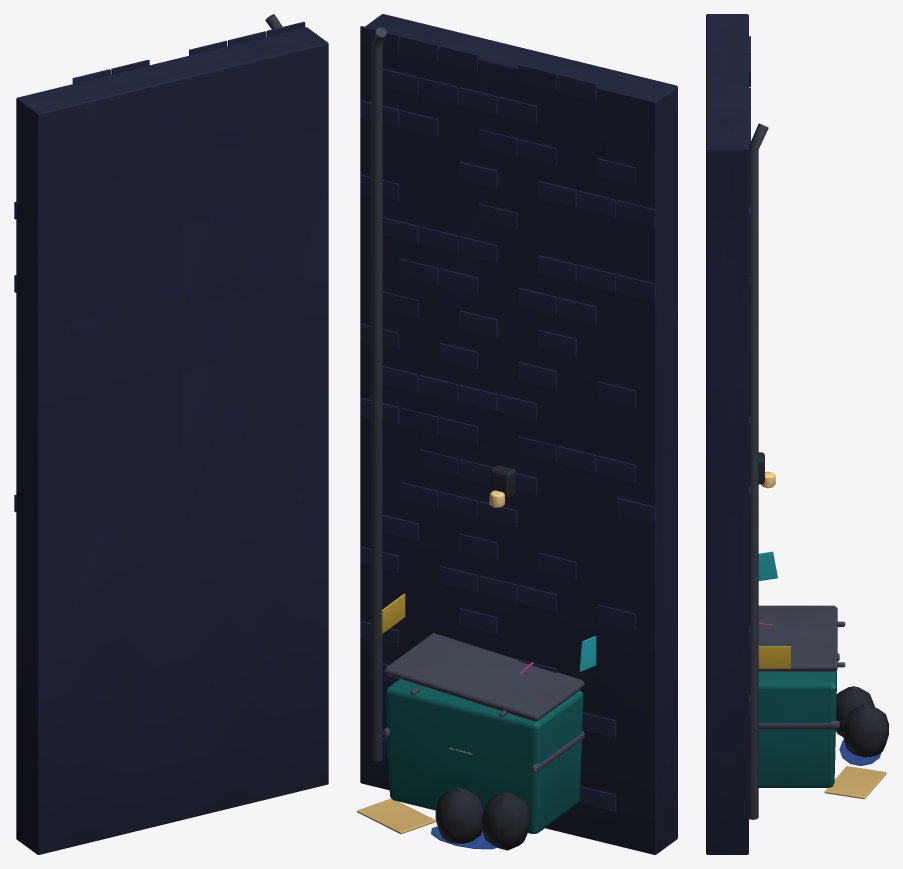
The model's file is SM_City_AlleyEnd_300.fbx.
The picture shows the model from 3 angles, left to right: view 1: azimuth 30°, elevation 25°; view 2: azimuth 150°, elevation 25°; view 3: azimuth 270°, elevation 25°; orthographic projection. The views are drawn at different scales.
Visible parts, largest first — view 1: SM_City_AlleyEnd_300; view 2: SM_City_AlleyEnd_300; view 3: SM_City_AlleyEnd_300.
Boxes of the visible parts, box(x1,y1,x2,y2) form: SM_City_AlleyEnd_300: box(14, 14, 328, 854); SM_City_AlleyEnd_300: box(357, 14, 677, 854); SM_City_AlleyEnd_300: box(706, 14, 888, 854).
Size of the model in its own units: 300 by 743 by 171.
